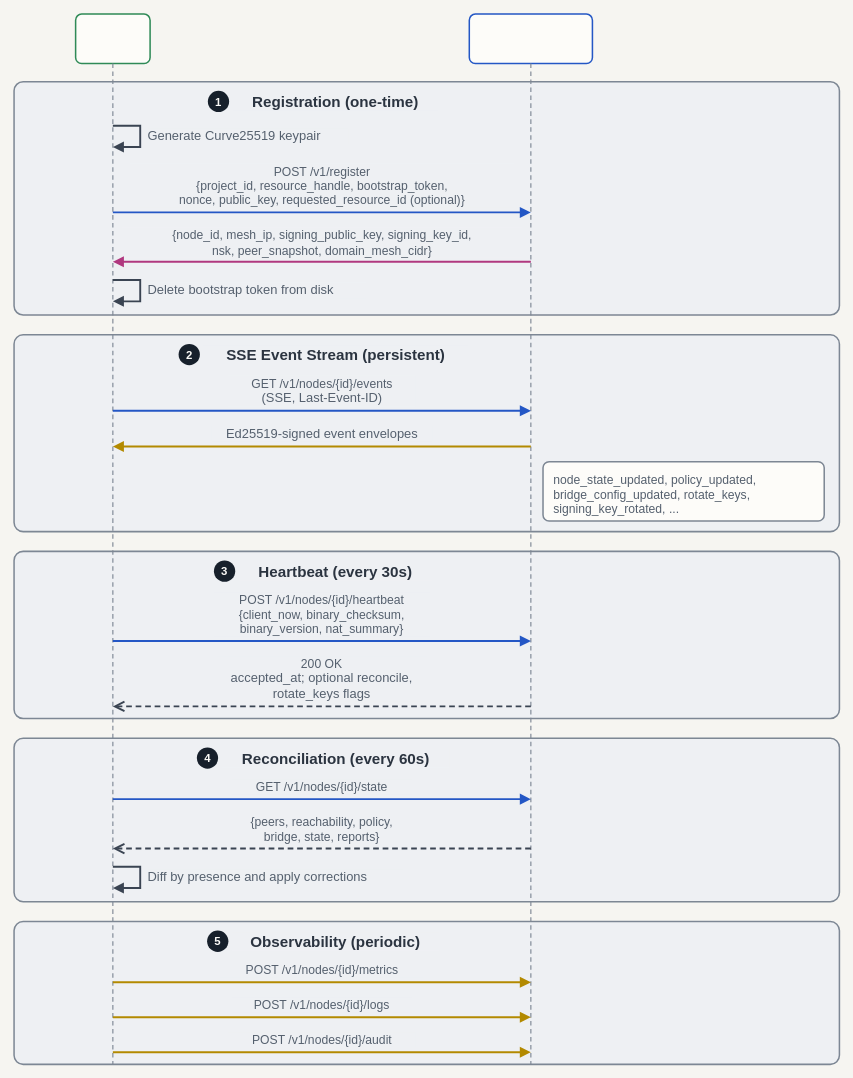
The diagram is 853 pixels wide and 1078 high, and some of its shapes have lost their labels. The shapes that lost their labels are listed below. From the top down, each one's centre as x and y in pixels, then its label:
the point at 112,38: plexd Node
the point at 530,38: Plexsphere Control Plane
